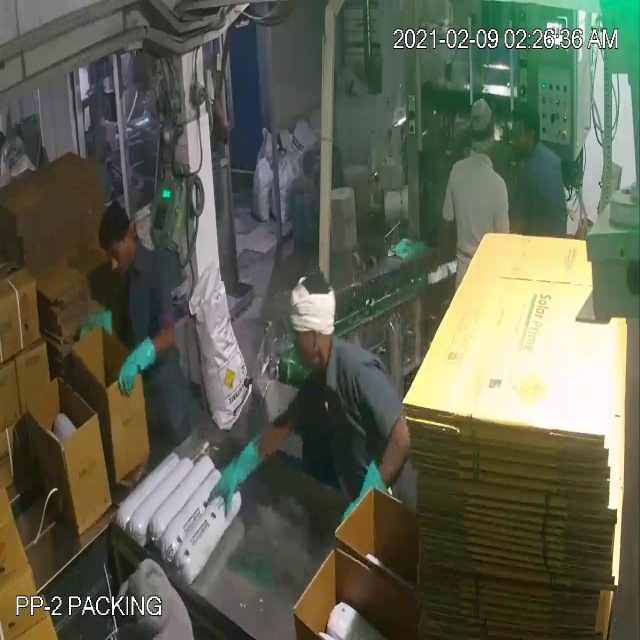Guantes: (207, 420, 272, 526), (338, 461, 391, 556), (118, 335, 161, 402), (78, 304, 120, 348)
